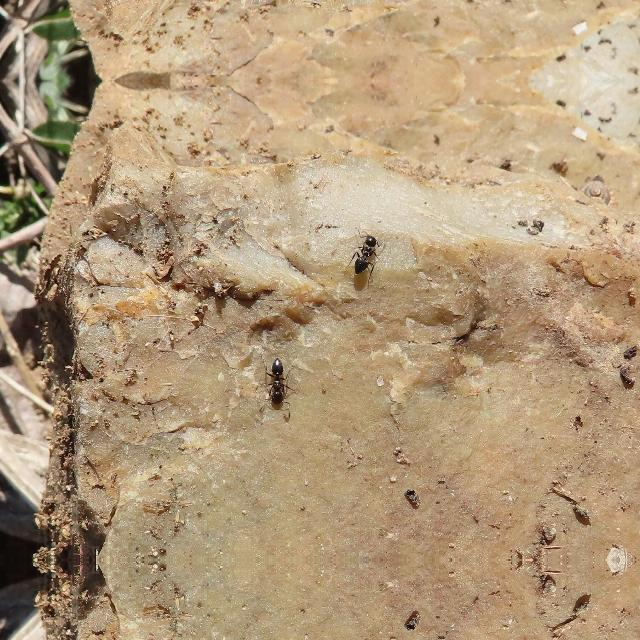Crematogaster: (342, 230, 382, 274), (267, 352, 287, 408)
